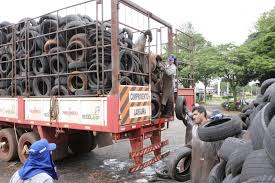tire: (197, 113, 245, 139), (114, 49, 136, 77), (87, 62, 110, 86), (64, 42, 90, 63), (18, 29, 39, 54), (30, 74, 54, 95), (39, 19, 60, 43), (49, 86, 72, 107), (67, 70, 88, 92), (48, 55, 70, 75), (31, 56, 50, 75), (1, 54, 16, 75)
